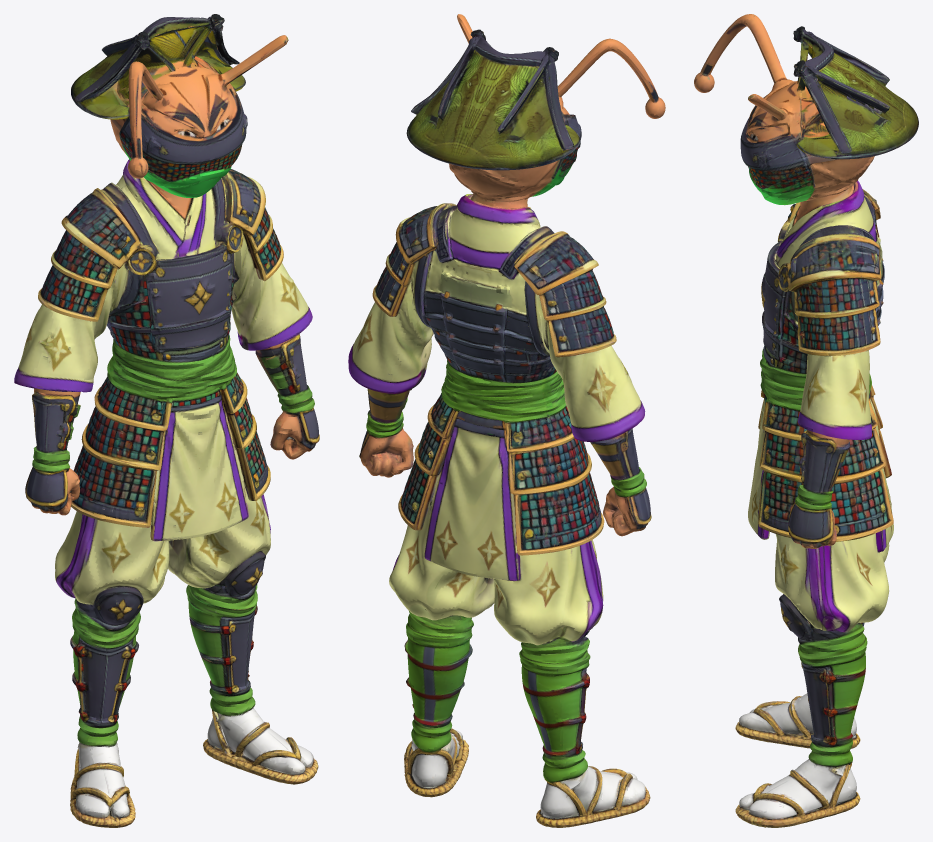
Rendered from rebel_893_static_source_fv2_v1.glb.
3 views of the same model, side by side, from view 1: azimuth 30°, elevation 25°; view 2: azimuth 150°, elevation 25°; view 3: azimuth 270°, elevation 25° (orthographic). The views are drawn at different scales.
Parts seen in each view (by area): view 1: Mesh_0; view 2: Mesh_0; view 3: Mesh_0.
Boxes of the visible parts, x1,y1,x2,y2 form: Mesh_0: (14, 14, 319, 827); Mesh_0: (348, 14, 665, 827); Mesh_0: (694, 14, 918, 827).
Size of the model in its own units: 0.7643 by 1.9 by 0.5309.
Materials: 1 (1 with a texture image).
